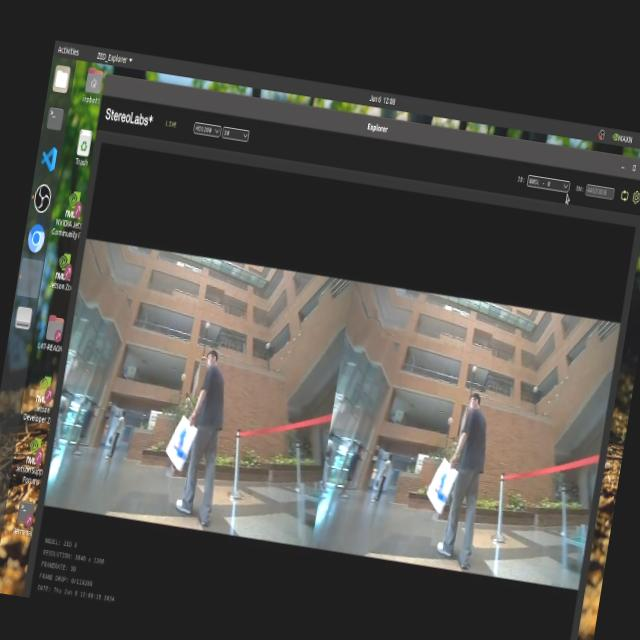blue: (170, 422, 193, 473), (431, 472, 456, 516)
